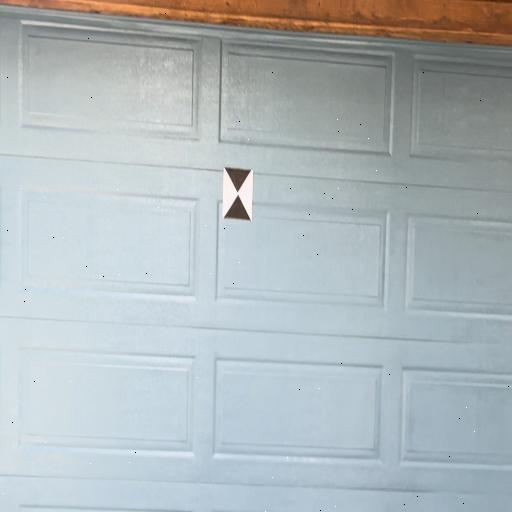target: (224, 168, 253, 220)
